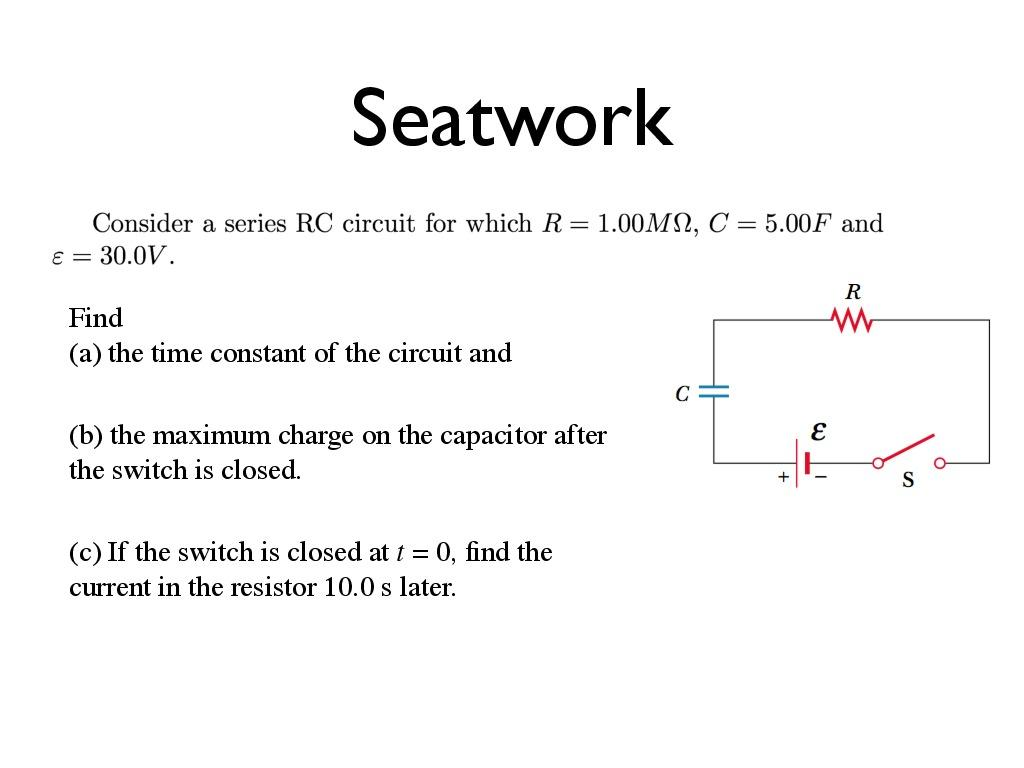paragraph: (33, 192, 953, 641)
title: (345, 72, 696, 173)
